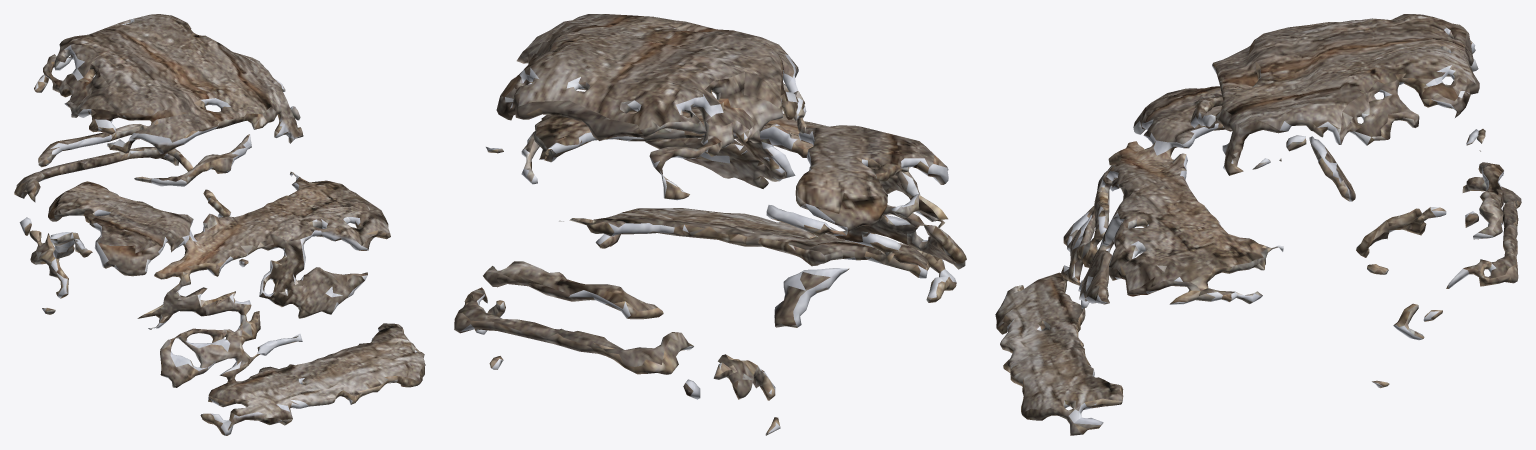
The model's file is CW_HF_Limestone_SnowCover_LOD1.fbx.
3 renders of one model, left to right at view 1: azimuth 30°, elevation 25°; view 2: azimuth 150°, elevation 25°; view 3: azimuth 270°, elevation 25°, orthographic. The views are drawn at different scales.
Visible parts, largest first — view 1: CW_HF_Limestone_SnowCover_LOD1; view 2: CW_HF_Limestone_SnowCover_LOD1; view 3: CW_HF_Limestone_SnowCover_LOD1.
Part boxes in pixels (x1,y1,x2,y2): CW_HF_Limestone_SnowCover_LOD1: [14, 14, 425, 435]; CW_HF_Limestone_SnowCover_LOD1: [454, 14, 966, 435]; CW_HF_Limestone_SnowCover_LOD1: [995, 14, 1521, 435].
Size of the model in its own units: 5.1 by 4.58 by 6.86.
